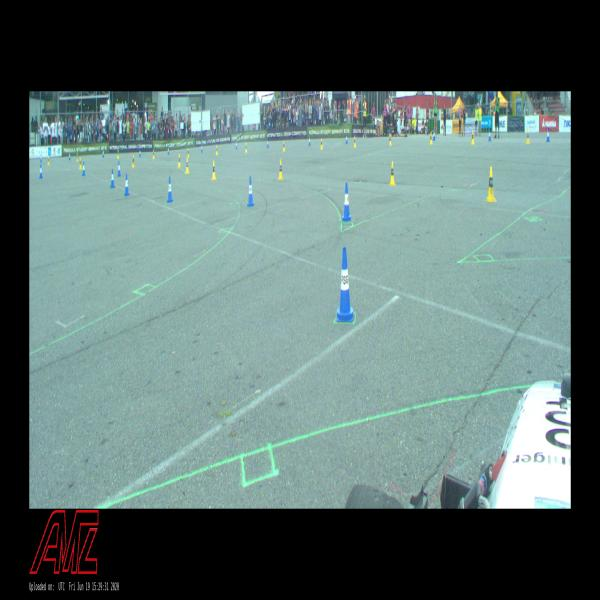blue_cone: (336, 247, 354, 322), (342, 182, 351, 220), (247, 176, 254, 206), (167, 176, 173, 202), (124, 174, 129, 195), (110, 169, 115, 188), (39, 164, 43, 179), (546, 129, 550, 142), (82, 162, 86, 175), (118, 161, 121, 176), (488, 130, 491, 141), (308, 137, 311, 146), (267, 138, 269, 148), (433, 130, 435, 140), (201, 144, 203, 153), (40, 154, 42, 162), (139, 148, 141, 156), (69, 153, 71, 160), (389, 131, 390, 142), (236, 141, 237, 149), (346, 135, 347, 143), (103, 150, 104, 158), (168, 147, 169, 154)
yellow_cone: (487, 167, 495, 201), (278, 159, 283, 180), (390, 162, 394, 185), (212, 160, 216, 179), (526, 129, 530, 144), (132, 155, 135, 167), (186, 157, 188, 174), (472, 131, 474, 144), (430, 132, 432, 145), (390, 134, 392, 146), (354, 136, 356, 148), (79, 158, 81, 169), (283, 141, 285, 151), (187, 148, 189, 157), (153, 150, 155, 158), (117, 150, 119, 158), (216, 146, 218, 154), (245, 144, 247, 152), (179, 154, 180, 167), (321, 138, 322, 150), (77, 153, 78, 161), (48, 157, 49, 164)
